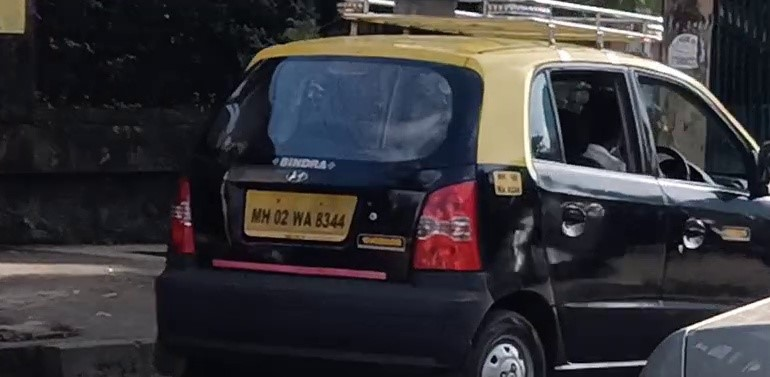MH02WA8344: (240, 189, 358, 242)
